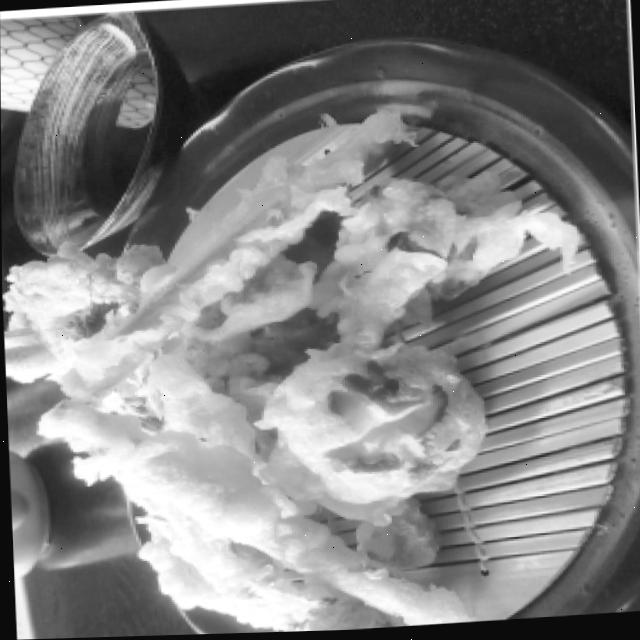蔬菜料理: (1, 111, 591, 640)
